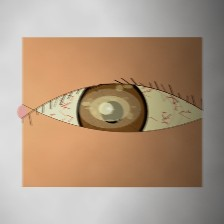corneal_ulcer: (76, 82, 142, 135)
